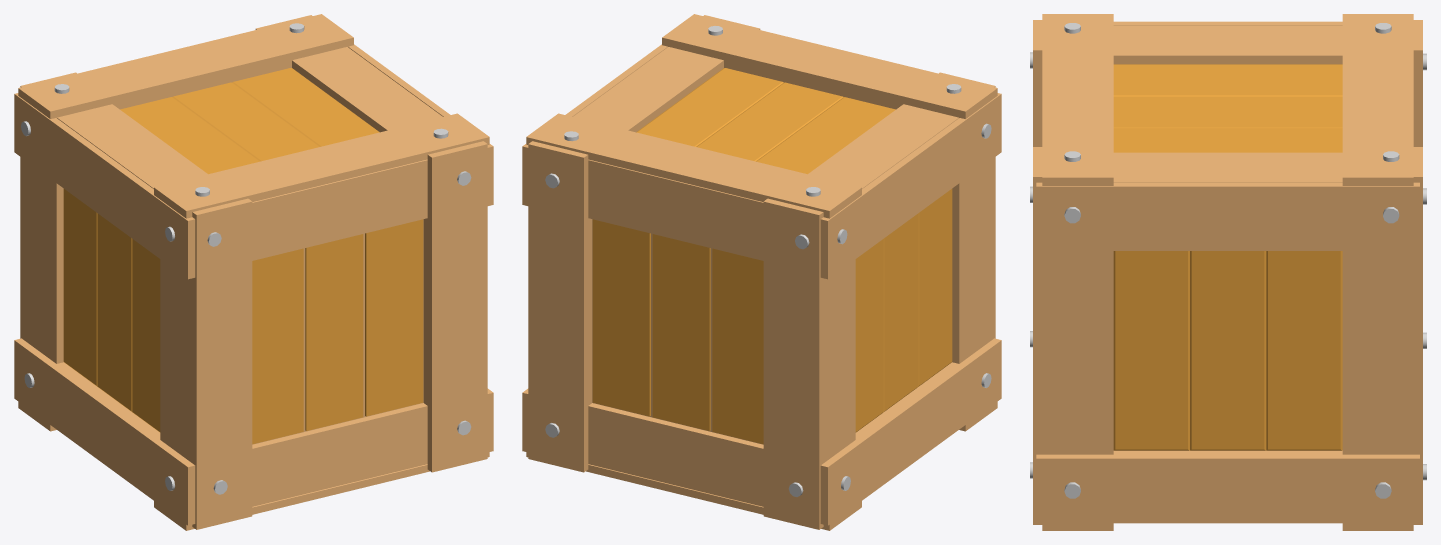
The model's file is Crate.fbx.
3 renders of one model, left to right at view 1: azimuth 30°, elevation 25°; view 2: azimuth 150°, elevation 25°; view 3: azimuth 270°, elevation 25°, orthographic. The views are drawn at different scales.
Visible parts, largest first — view 1: Crate; view 2: Crate; view 3: Crate.
Boxes of the visible parts, x1=… form: Crate: x1=14, y1=14, x2=493, y2=530; Crate: x1=522, y1=14, x2=1001, y2=530; Crate: x1=1030, y1=14, x2=1426, y2=530.
Bounding box in the file's own units: 214 × 214 × 214.
